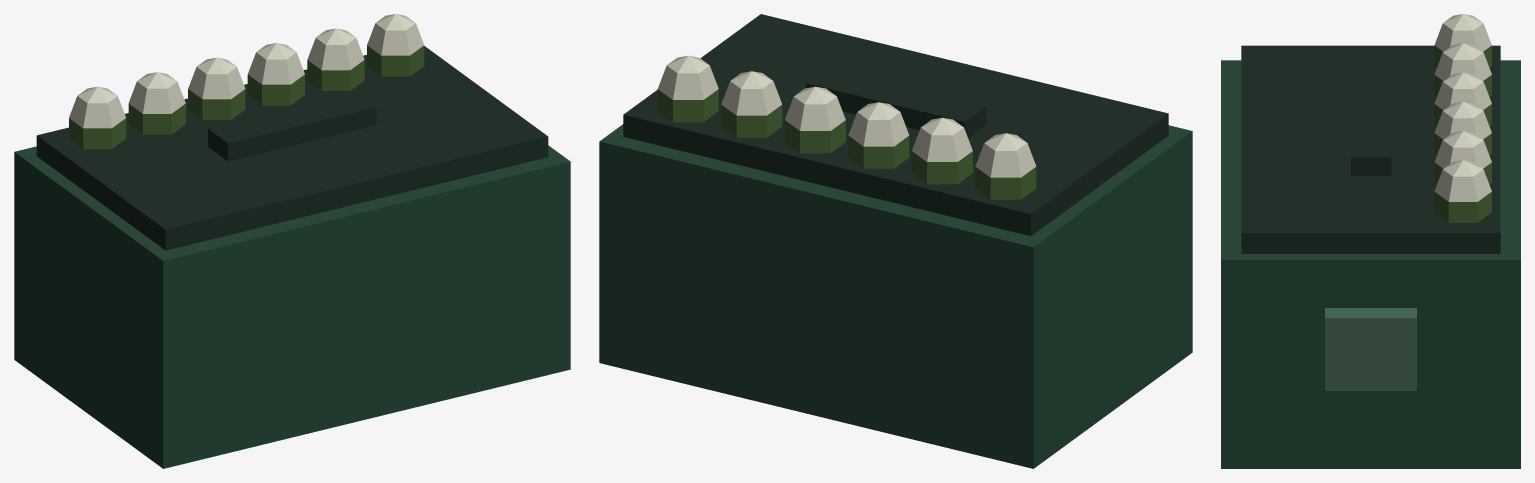
Rendered from ce_ammo_grenade_air_c.obj.
3 views of the same model, side by side, from view 1: azimuth 30°, elevation 25°; view 2: azimuth 150°, elevation 25°; view 3: azimuth 270°, elevation 25° (orthographic). The views are drawn at different scales.
Parts seen in each view (by area): view 1: ce_ammo_grenade_air_c_0, ce_ammo_grenade_air_c_1, ce_ammo_grenade_air_c_2, ce_ammo_grenade_air_c_17, ce_ammo_grenade_air_c_5, ce_ammo_grenade_air_c_11, ce_ammo_grenade_air_c_14, ce_ammo_grenade_air_c_20, ce_ammo_grenade_air_c_8, ce_ammo_grenade_air_c_13, ce_ammo_grenade_air_c_19, ce_ammo_grenade_air_c_4 (+3 smaller); view 2: ce_ammo_grenade_air_c_0, ce_ammo_grenade_air_c_1, ce_ammo_grenade_air_c_2, ce_ammo_grenade_air_c_11, ce_ammo_grenade_air_c_17, ce_ammo_grenade_air_c_5, ce_ammo_grenade_air_c_20, ce_ammo_grenade_air_c_14, ce_ammo_grenade_air_c_8, ce_ammo_grenade_air_c_4, ce_ammo_grenade_air_c_7, ce_ammo_grenade_air_c_13 (+3 smaller); view 3: ce_ammo_grenade_air_c_0, ce_ammo_grenade_air_c_1, ce_ammo_grenade_air_c_3, ce_ammo_grenade_air_c_2, ce_ammo_grenade_air_c_20, ce_ammo_grenade_air_c_19, ce_ammo_grenade_air_c_5, ce_ammo_grenade_air_c_17, ce_ammo_grenade_air_c_14, ce_ammo_grenade_air_c_11, ce_ammo_grenade_air_c_8, ce_ammo_grenade_air_c_15 (+5 smaller).
Boxes of the visible parts, x1,y1,x2,y2 form: ce_ammo_grenade_air_c_0: (14,145,570,468); ce_ammo_grenade_air_c_1: (36,46,548,250); ce_ammo_grenade_air_c_2: (208,92,376,161); ce_ammo_grenade_air_c_17: (307,38,364,70); ce_ammo_grenade_air_c_5: (69,96,125,128); ce_ammo_grenade_air_c_11: (188,67,245,99); ce_ammo_grenade_air_c_14: (248,52,304,84); ce_ammo_grenade_air_c_20: (367,23,423,55); ce_ammo_grenade_air_c_8: (128,81,185,113); ce_ammo_grenade_air_c_13: (247,74,304,105); ce_ammo_grenade_air_c_19: (367,45,424,76); ce_ammo_grenade_air_c_4: (69,118,126,149); ce_ammo_grenade_air_c_0: (599,124,1192,468); ce_ammo_grenade_air_c_1: (623,14,1168,236); ce_ammo_grenade_air_c_2: (806,67,985,138); ce_ammo_grenade_air_c_11: (848,112,909,146); ce_ammo_grenade_air_c_17: (721,81,782,115); ce_ammo_grenade_air_c_5: (975,143,1036,177); ce_ammo_grenade_air_c_20: (658,65,718,99); ce_ammo_grenade_air_c_14: (785,96,845,130); ce_ammo_grenade_air_c_8: (912,128,972,161); ce_ammo_grenade_air_c_4: (975,166,1036,199); ce_ammo_grenade_air_c_7: (911,151,972,184); ce_ammo_grenade_air_c_13: (784,120,845,153); ce_ammo_grenade_air_c_0: (1221,60,1520,468); ce_ammo_grenade_air_c_1: (1241,45,1500,253); ce_ammo_grenade_air_c_3: (1325,308,1416,390); ce_ammo_grenade_air_c_2: (1350,84,1391,175); ce_ammo_grenade_air_c_20: (1434,169,1491,201); ce_ammo_grenade_air_c_19: (1434,191,1491,222); ce_ammo_grenade_air_c_5: (1434,23,1491,51); ce_ammo_grenade_air_c_17: (1434,140,1491,168); ce_ammo_grenade_air_c_14: (1434,111,1491,139); ce_ammo_grenade_air_c_11: (1434,82,1491,110); ce_ammo_grenade_air_c_8: (1434,52,1491,80); ce_ammo_grenade_air_c_15: (1443,101,1483,118).
Bounding box in the file's own units: 0.86 × 0.54 × 0.52.
